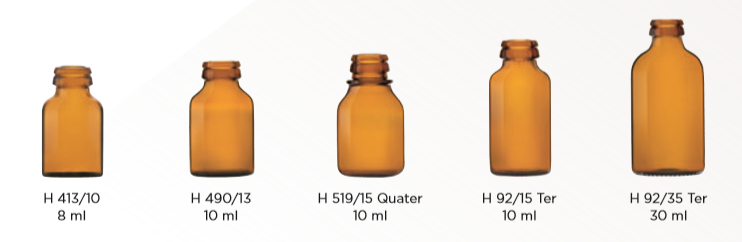glass_bottleww: (310, 25, 438, 242), (609, 3, 725, 242), (459, 13, 573, 240), (157, 26, 272, 242), (16, 31, 133, 234)
